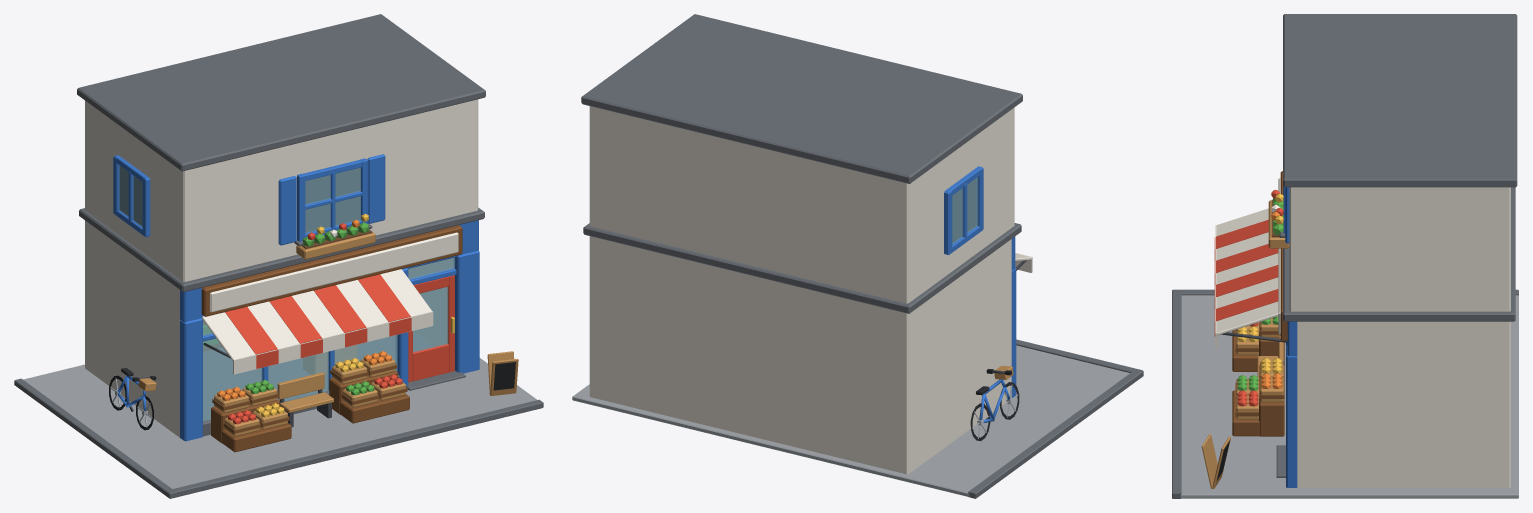
The model's file is low-poly-corner-shop.glb.
3 views of the same model, side by side, from view 1: azimuth 30°, elevation 25°; view 2: azimuth 150°, elevation 25°; view 3: azimuth 270°, elevation 25° (orthographic). The views are drawn at different scales.
Visible parts, largest first — view 1: RoofCap, UpperWalls, Pavement, Wall_Left, Awning, Awning_Canvas, SignBoard, ShopWindow_Glass, Cornice, Curb_Front, ShopFloor, SignBoard_Frame (+25 smaller); view 2: UpperWalls, Wall_Back, RoofCap, Wall_Left, Pavement, Cornice, Curb_Side, Wall_Right, SideWindow_Glass, SideWindow_Back, Curb_Front, Pillar_L (+1 smaller); view 3: RoofCap, Wall_Right, UpperWalls, Pavement, Awning_Canvas, Cornice, Awning, Curb_Front, Pillar_R, Display_1_High, Display_1_Low, Display_0_Low (+3 smaller).
Boxes of the visible parts, left/top/right/bottom form: RoofCap: left=77, top=14, right=485, bottom=171; UpperWalls: left=85, top=99, right=478, bottom=281; Pavement: left=23, top=358, right=536, bottom=488; Wall_Left: left=85, top=220, right=180, bottom=437; Awning: left=203, top=274, right=411, bottom=368; Awning_Canvas: left=202, top=269, right=432, bottom=360; SignBoard: left=209, top=232, right=458, bottom=312; ShopWindow_Glass: left=203, top=320, right=397, bottom=421; Cornice: left=79, top=207, right=484, bottom=292; Curb_Front: left=166, top=399, right=543, bottom=498; ShopFloor: left=203, top=332, right=433, bottom=419; SignBoard_Frame: left=201, top=225, right=462, bottom=316; UpperWalls: left=589, top=106, right=1014, bottom=303; Wall_Back: left=601, top=239, right=895, bottom=471; RoofCap: left=581, top=14, right=1022, bottom=183; Wall_Left: left=896, top=239, right=1011, bottom=474; Pavement: left=572, top=345, right=1129, bottom=496; Cornice: left=583, top=223, right=1021, bottom=313; Curb_Side: left=968, top=371, right=1143, bottom=498; Wall_Right: left=589, top=236, right=600, bottom=399; SideWindow_Glass: left=952, top=177, right=978, bottom=244; SideWindow_Back: left=952, top=178, right=976, bottom=242; Curb_Front: left=1016, top=339, right=1143, bottom=373; Pillar_L: left=1011, top=268, right=1016, bottom=397; RoofCap: left=1283, top=14, right=1517, bottom=187; Wall_Right: left=1297, top=321, right=1510, bottom=487; UpperWalls: left=1289, top=187, right=1510, bottom=311; Pavement: left=1180, top=295, right=1518, bottom=498; Awning_Canvas: left=1216, top=208, right=1278, bottom=335; Cornice: left=1283, top=186, right=1515, bottom=321; Awning: left=1214, top=219, right=1285, bottom=342; Curb_Front: left=1172, top=289, right=1181, bottom=498; Pillar_R: left=1286, top=345, right=1297, bottom=487; Display_1_High: left=1259, top=399, right=1284, bottom=436; Display_1_Low: left=1232, top=390, right=1259, bottom=436; Display_0_Low: left=1232, top=330, right=1258, bottom=371.
Bounding box in the file's own units: 30.41 × 22 × 21.9.
